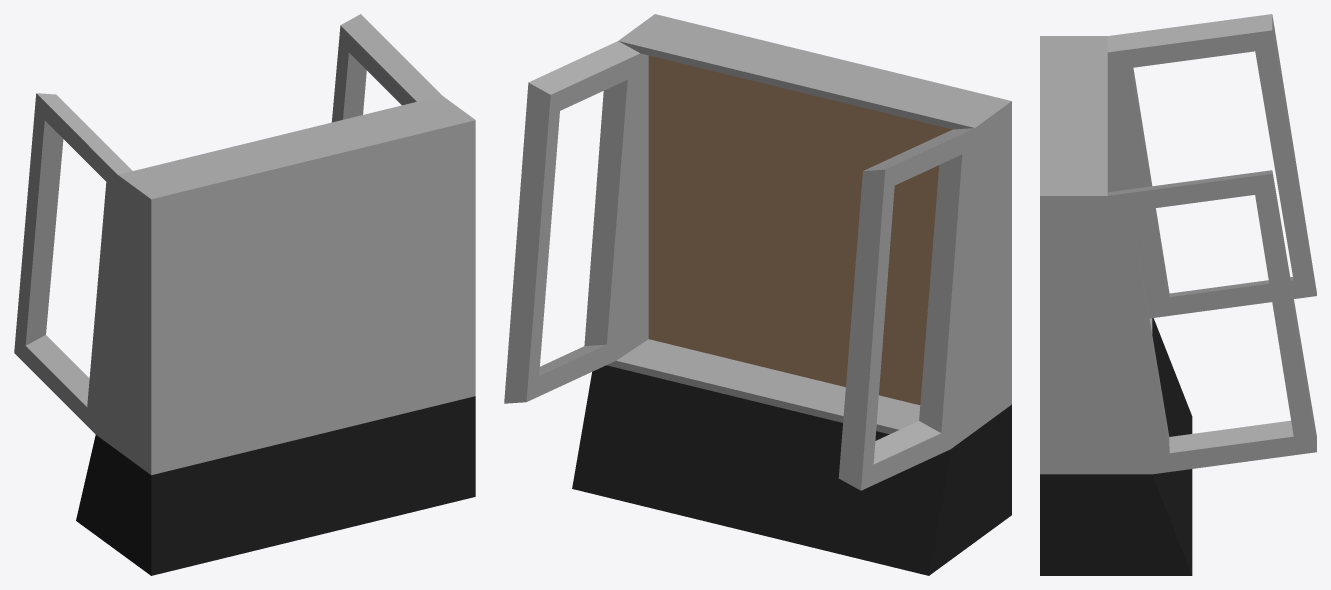
Rendered from GunCabinet.fbx.
3 renders of one model, left to right at view 1: azimuth 30°, elevation 25°; view 2: azimuth 150°, elevation 25°; view 3: azimuth 270°, elevation 25°, orthographic. The views are drawn at different scales.
Visible parts, largest first — view 1: Cube.001; view 2: Cube.001; view 3: Cube.001.
Boxes of the visible parts, x1,y1,x2,y2 form: Cube.001: (14,14,475,575); Cube.001: (504,14,1011,575); Cube.001: (1040,14,1316,575).
Size of the model in its own units: 674 by 791 by 494.
